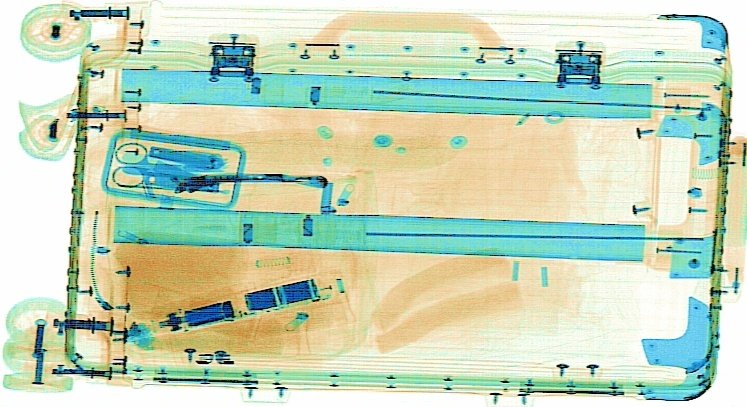scissors: (107, 139, 225, 189)
